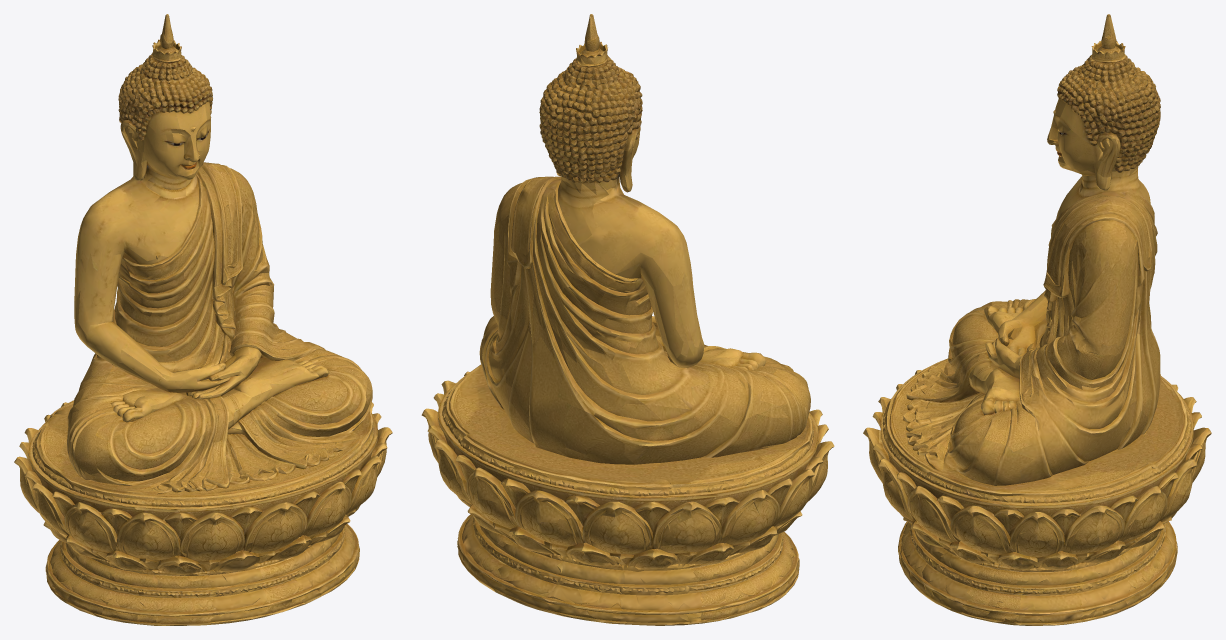
File: buddha.glb
3 views of the same model, side by side, from view 1: azimuth 30°, elevation 25°; view 2: azimuth 150°, elevation 25°; view 3: azimuth 270°, elevation 25° (orthographic). The views are drawn at different scales.
Parts seen in each view (by area): view 1: Mesh_0; view 2: Mesh_0; view 3: Mesh_0.
Part boxes in pixels (<box>): Mesh_0: <box>14,14,392,625</box>; Mesh_0: <box>421,14,834,625</box>; Mesh_0: <box>863,14,1211,625</box>.
Bounding box in the file's own units: 1.29 × 1.9 × 1.11.
1 material, 1 textured.
